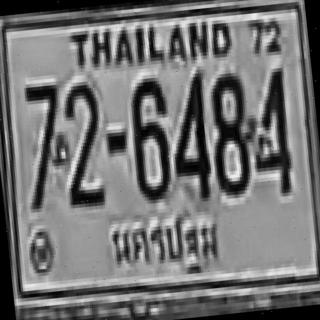N02: (56, 77, 106, 205)
N04: (244, 64, 294, 196), (164, 68, 213, 199)
N06: (125, 74, 174, 202)
N07: (18, 81, 68, 209)
N08: (206, 68, 254, 196)
P28: (104, 199, 228, 284)
